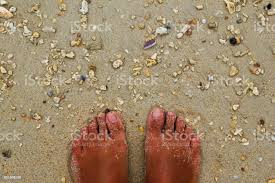Feet: (143, 106, 202, 183), (69, 111, 130, 183)
